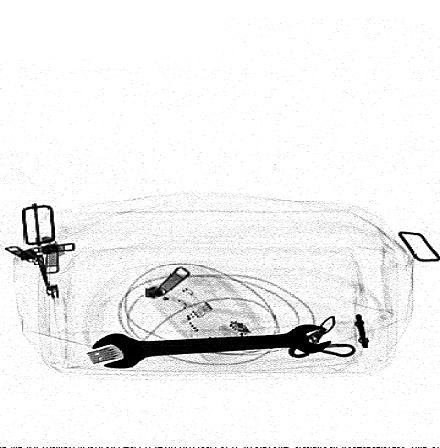Wrench: (91, 323, 334, 370)
